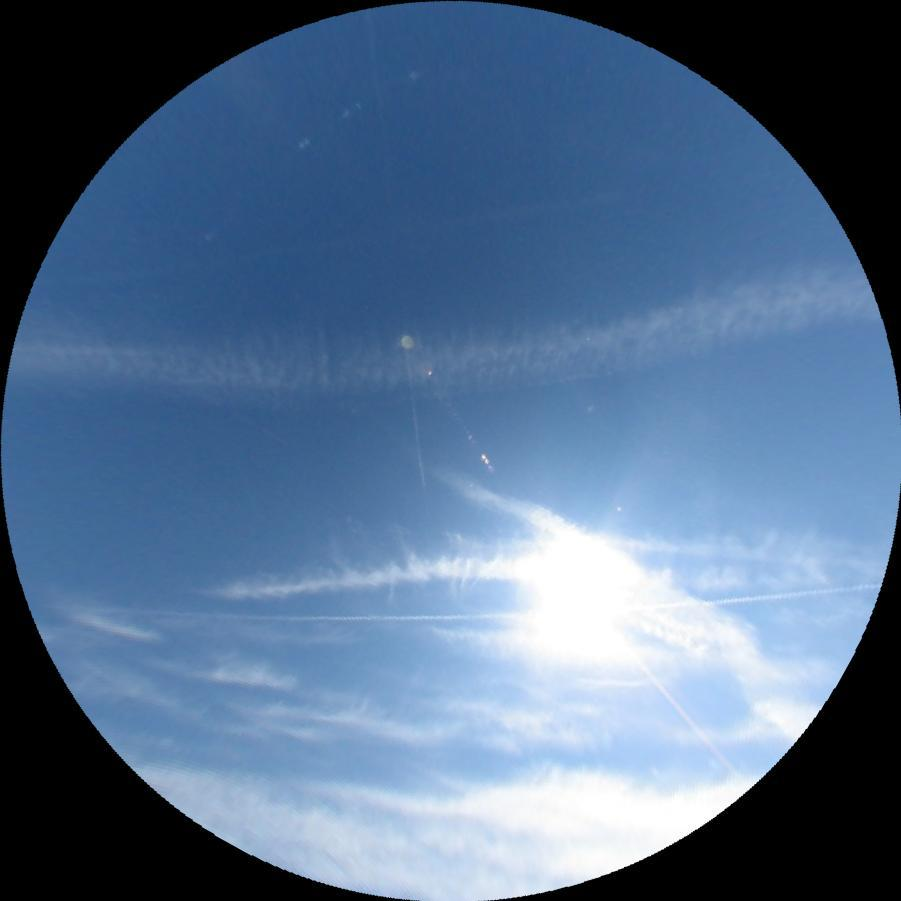contrail old: (33, 190, 612, 294), (43, 582, 881, 629), (401, 335, 430, 515)
contrail veryold: (5, 255, 884, 438), (425, 416, 832, 747), (209, 518, 832, 602)
parasite: (196, 57, 422, 239), (626, 645, 755, 787)
sun: (528, 542, 649, 657)
